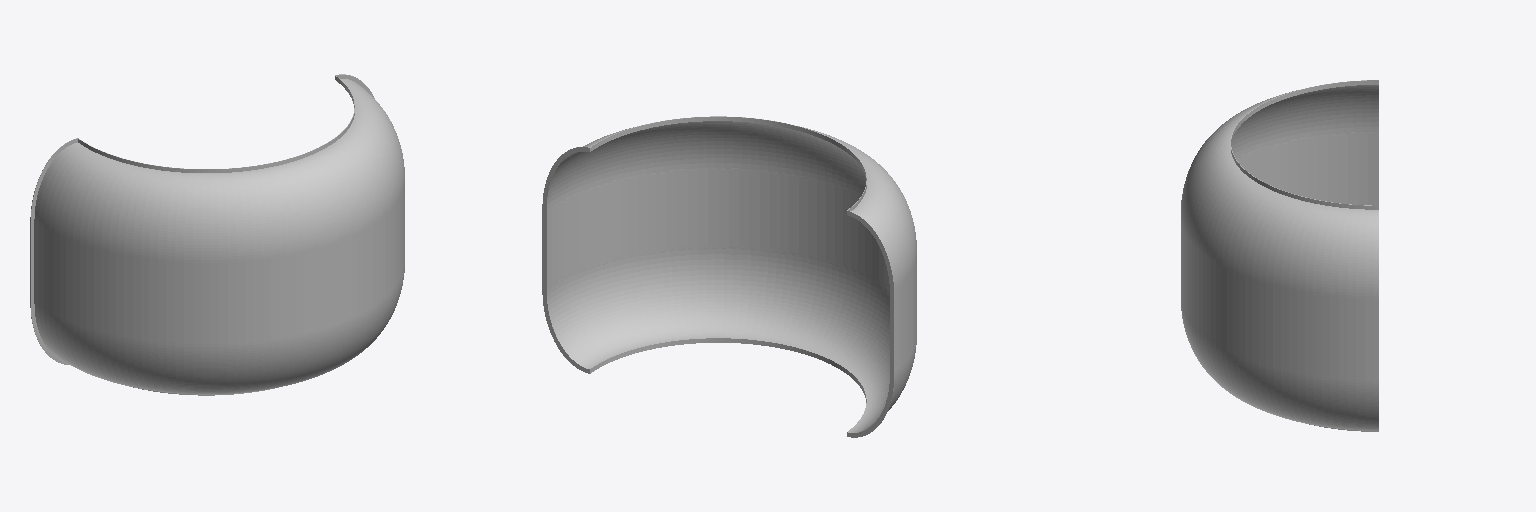
File: Dome4m.obj
The picture shows the model from 3 angles: view 1: azimuth 30°, elevation 25°; view 2: azimuth 150°, elevation 25°; view 3: azimuth 270°, elevation 25°; orthographic projection.
Bounding box in the file's own units: 4.14 × 2.54 × 2.02.